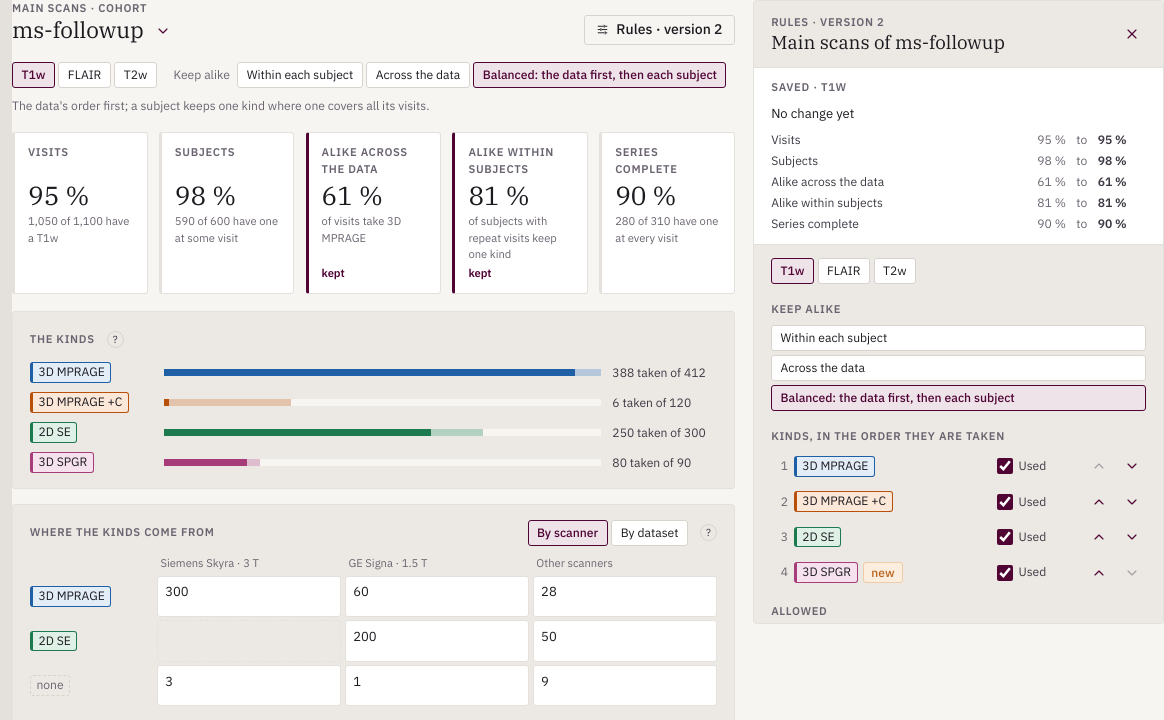
Test: Main scans of a cohort › never offers a visit of another role's page: the cards wait for the role's own
What coordinates should you click on to do the following:
click the button "FLAIR" below "Main scans ·"
I would click on:
 (85, 75)
Its box is top-left (58, 62), bottom-right (111, 88).
(page scrolled)
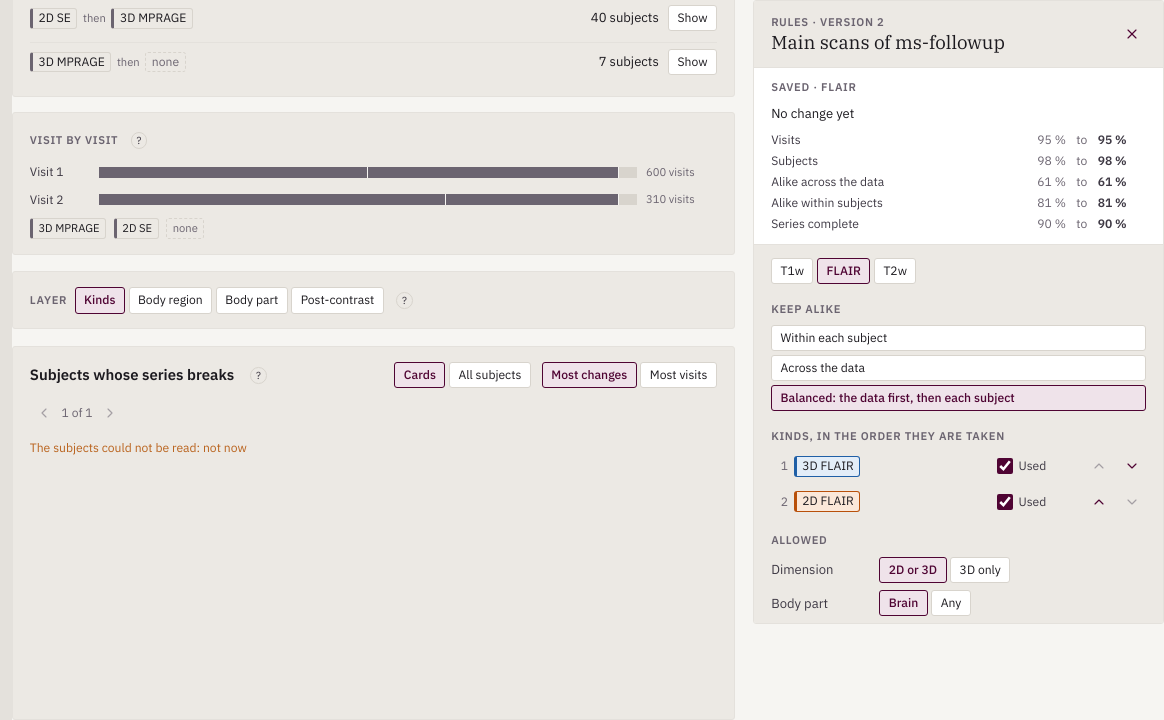
Result: the element with class "ms-group" shows "The subjects could not be read: not now" at top-left (12, 346), bottom-right (735, 719)
